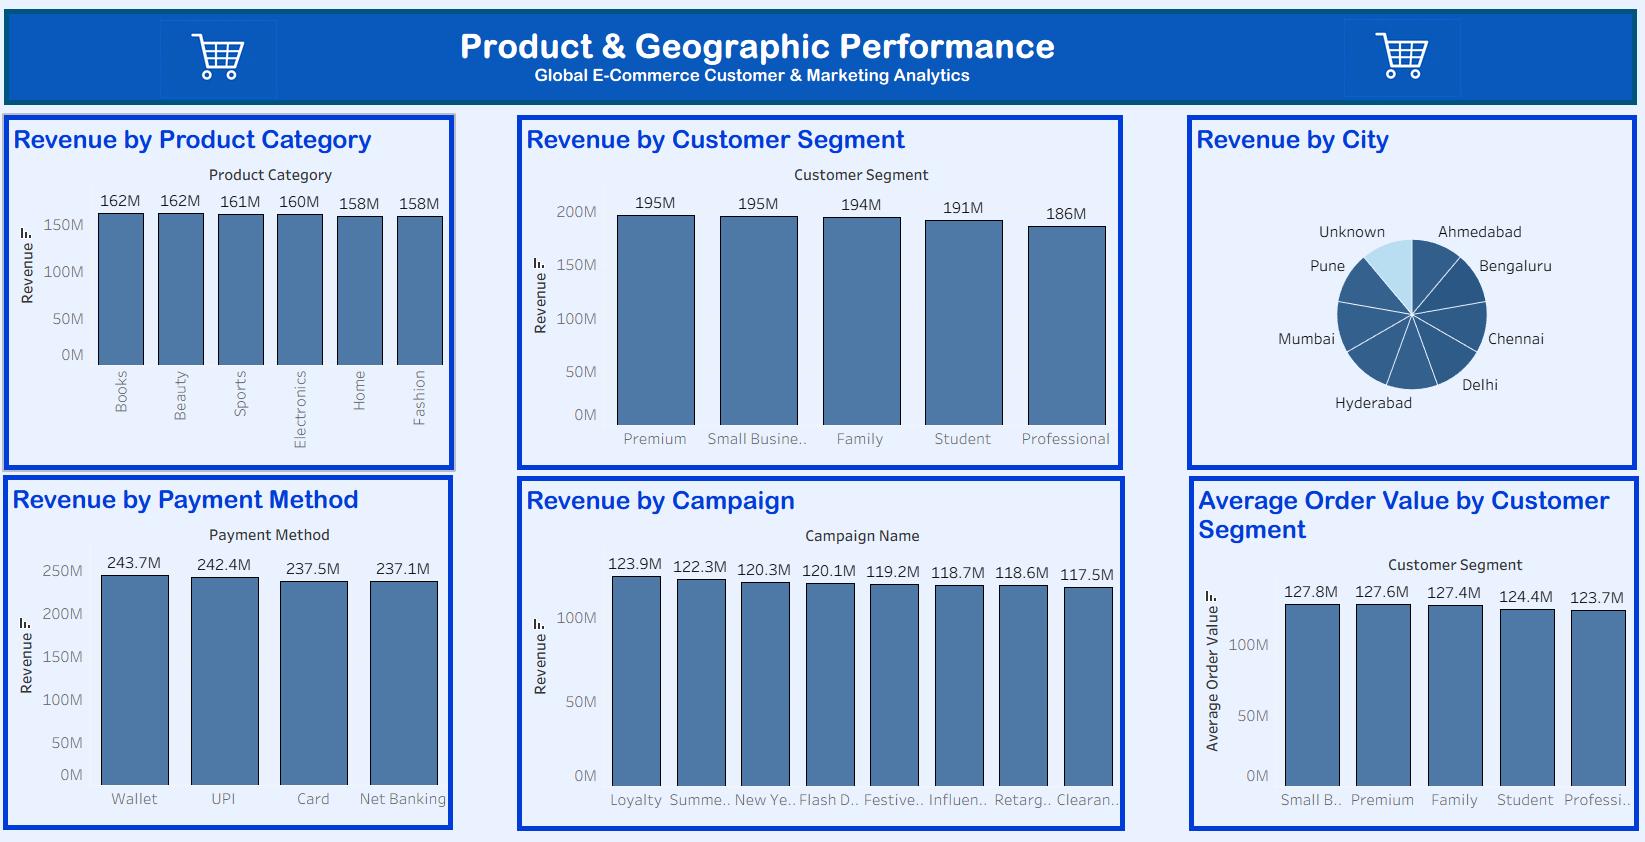

The dashboard page shown, as its layout file describes it:
{"tool":"tableau","page":{"name":"Dashboard 2","canvas":[1657,850],"ordinal":1},"visuals":[{"type":"image","param":"C:/Users/juni/AppData/Local/Temp/TableauTemp/09imin3188mj4e16uy8so0lz490f/Sheets","box":[10,10,1641,104]},{"type":"image","param":"C:/Users/juni/AppData/Local/Temp/TableauTemp/09imin3188mj4e16uy8so0lz490f/Sheets","box":[1504,14,143,95]},{"type":"text","box":[456,21,623,81]},{"type":"worksheet","title":"Revenue by Product Category","mark":"Automatic","rows":["revenue"],"cols":["product_category"],"box":[14,120,450,355]},{"type":"worksheet","title":"Revenue by Customer Segment","mark":"Automatic","rows":["revenue"],"cols":["customer_segment"],"box":[527,120,606,355]},{"type":"worksheet","title":"Revenue by City","mark":"Pie","box":[1197,120,450,355]},{"type":"worksheet","title":"Revenue by Payment Method","mark":"Automatic","rows":["revenue"],"cols":["payment_method"],"box":[13,480,450,355]},{"type":"worksheet","title":"Revenue by Campaign","mark":"Automatic","rows":["revenue"],"cols":["campaign_name"],"box":[527,481,608,355]},{"type":"worksheet","title":"Average Order Value by Customer Segment","mark":"Automatic","rows":["average_order_value"],"cols":["customer_segment"],"box":[1199,481,450,355]}]}

Visuals, with their boxes in screenshot pixels (x1, y1, x2, y2), scaled from the page's 1657x850 canvas onto the 1645x842 screenshot:
image: {"x1": 10, "y1": 10, "x2": 1639, "y2": 113}
image: {"x1": 1493, "y1": 14, "x2": 1635, "y2": 108}
text: {"x1": 453, "y1": 21, "x2": 1071, "y2": 101}
"Revenue by Product Category" worksheet: {"x1": 14, "y1": 119, "x2": 461, "y2": 471}
"Revenue by Customer Segment" worksheet: {"x1": 523, "y1": 119, "x2": 1125, "y2": 471}
"Revenue by City" worksheet (Pie marks): {"x1": 1188, "y1": 119, "x2": 1635, "y2": 471}
"Revenue by Payment Method" worksheet: {"x1": 13, "y1": 475, "x2": 460, "y2": 827}
"Revenue by Campaign" worksheet: {"x1": 523, "y1": 476, "x2": 1127, "y2": 828}
"Average Order Value by Customer Segment" worksheet: {"x1": 1190, "y1": 476, "x2": 1637, "y2": 828}
